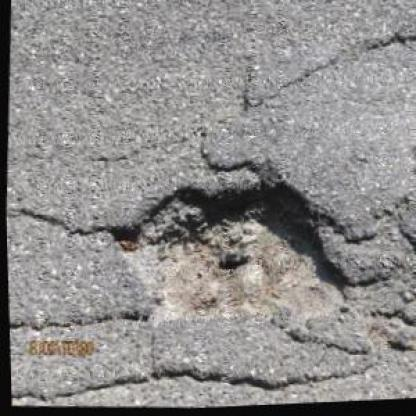pothole: (98, 162, 358, 338)
